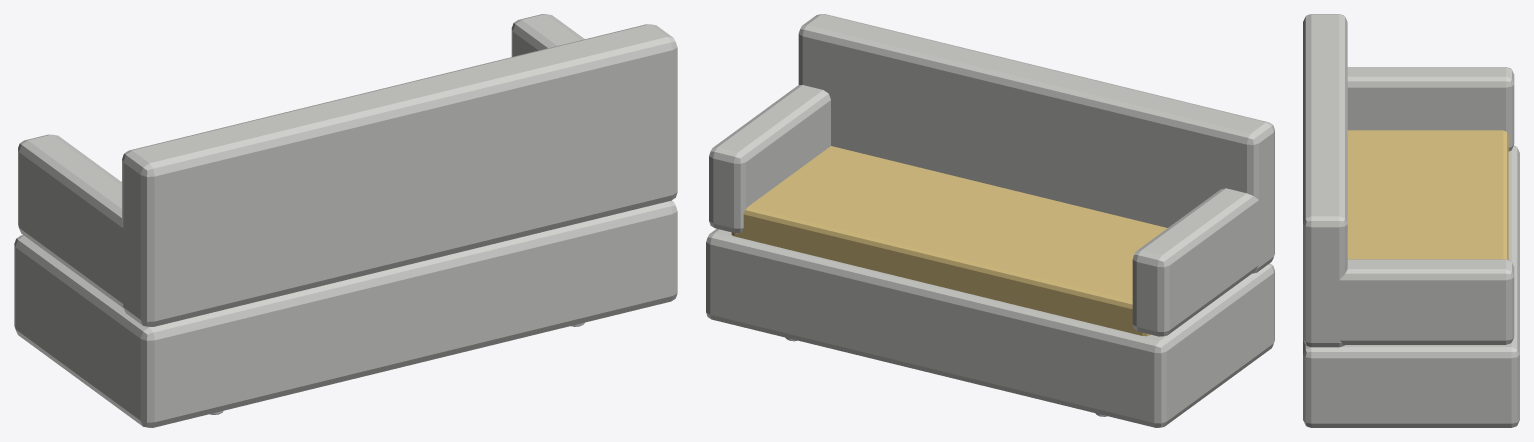
The model's file is P_sofa.fbx.
3 renders of one model, left to right at view 1: azimuth 30°, elevation 25°; view 2: azimuth 150°, elevation 25°; view 3: azimuth 270°, elevation 25°, orthographic. The views are drawn at different scales.
Visible parts, largest first — view 1: P_sofa; view 2: P_sofa; view 3: P_sofa.
Boxes of the visible parts, box(x1,y1,x2,y2) form: P_sofa: box(14, 14, 677, 427); P_sofa: box(706, 14, 1274, 427); P_sofa: box(1303, 14, 1519, 427).
Bounding box in the file's own units: 1.78 × 0.88 × 0.78.
